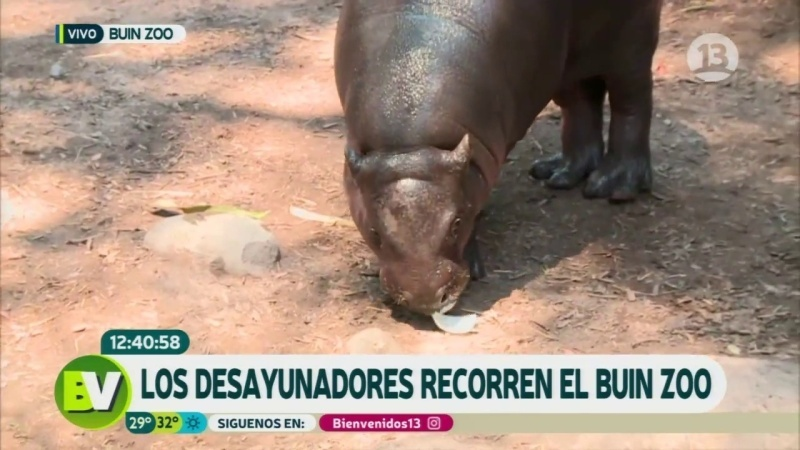hipopotamo: (308, 1, 704, 339)
